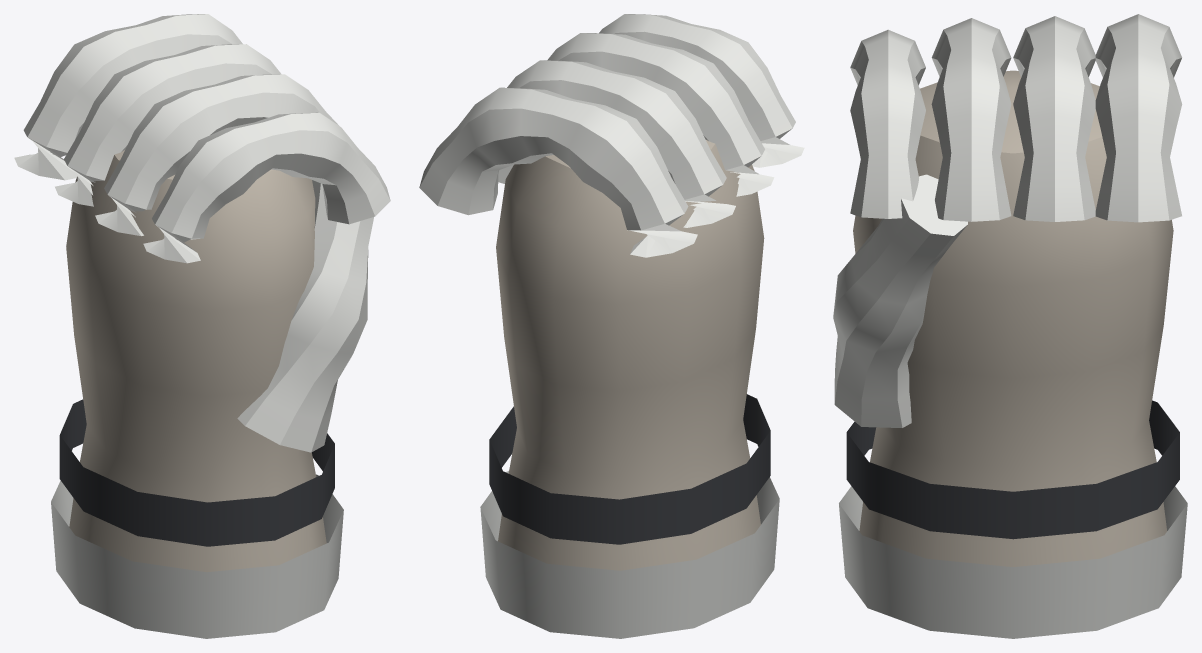
Rendered from SM_C26_Glove_L.fbx.
3 renders of one model, left to right at view 1: azimuth 30°, elevation 25°; view 2: azimuth 150°, elevation 25°; view 3: azimuth 270°, elevation 25°, orthographic. The views are drawn at different scales.
Visible parts, largest first — view 1: SM_C26_Glove_L; view 2: SM_C26_Glove_L; view 3: SM_C26_Glove_L.
Part boxes in pixels (x1,y1,x2,y2): SM_C26_Glove_L: (14,14,390,638); SM_C26_Glove_L: (419,14,804,638); SM_C26_Glove_L: (833,14,1187,638).
Bounding box in the file's own units: 10.04 × 10.84 × 19.03.
